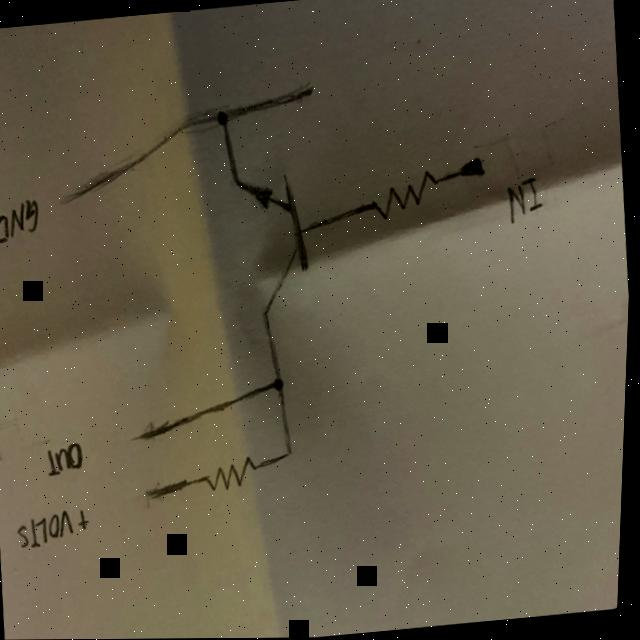junction: (204, 100, 240, 139), (264, 372, 296, 404), (282, 442, 299, 461)
resistor: (363, 167, 445, 224), (201, 453, 266, 494)
terminal: (455, 152, 491, 188), (142, 480, 168, 506), (129, 426, 156, 450), (301, 78, 320, 101), (56, 188, 75, 210)
text: (17, 506, 81, 554), (500, 173, 550, 227), (0, 196, 44, 247), (47, 435, 89, 480), (78, 506, 96, 537)
transistor: (212, 162, 332, 330)
